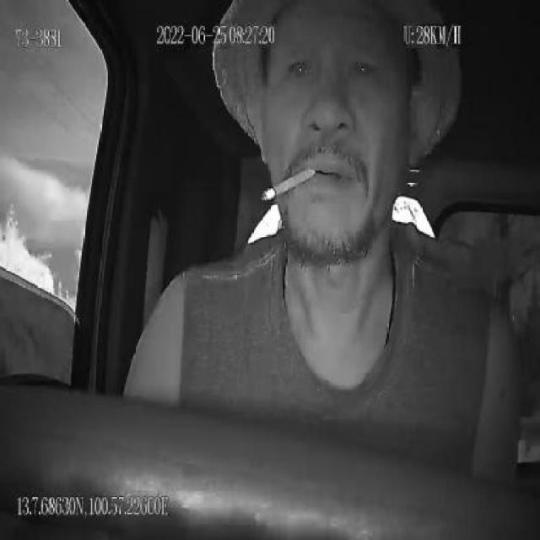smoking: (262, 166, 314, 203)
